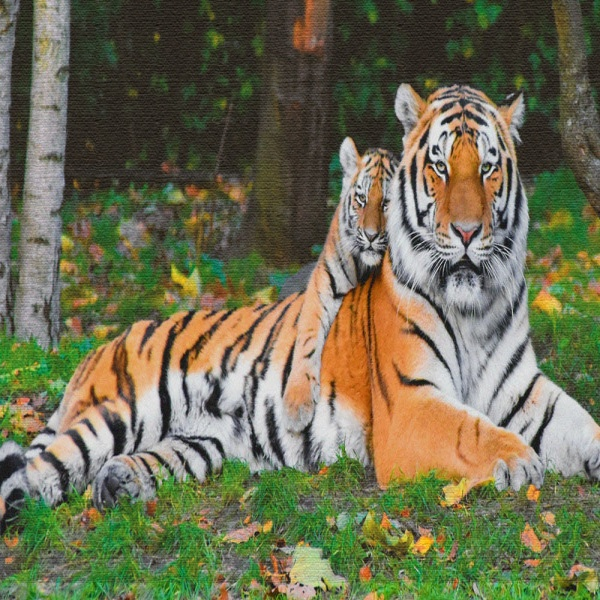Tiger: (3, 75, 600, 534), (279, 135, 399, 434)
